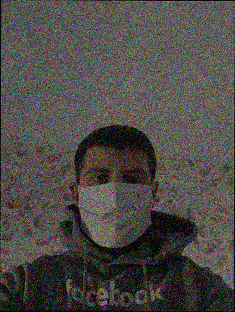with_mask: (77, 159, 155, 248)
